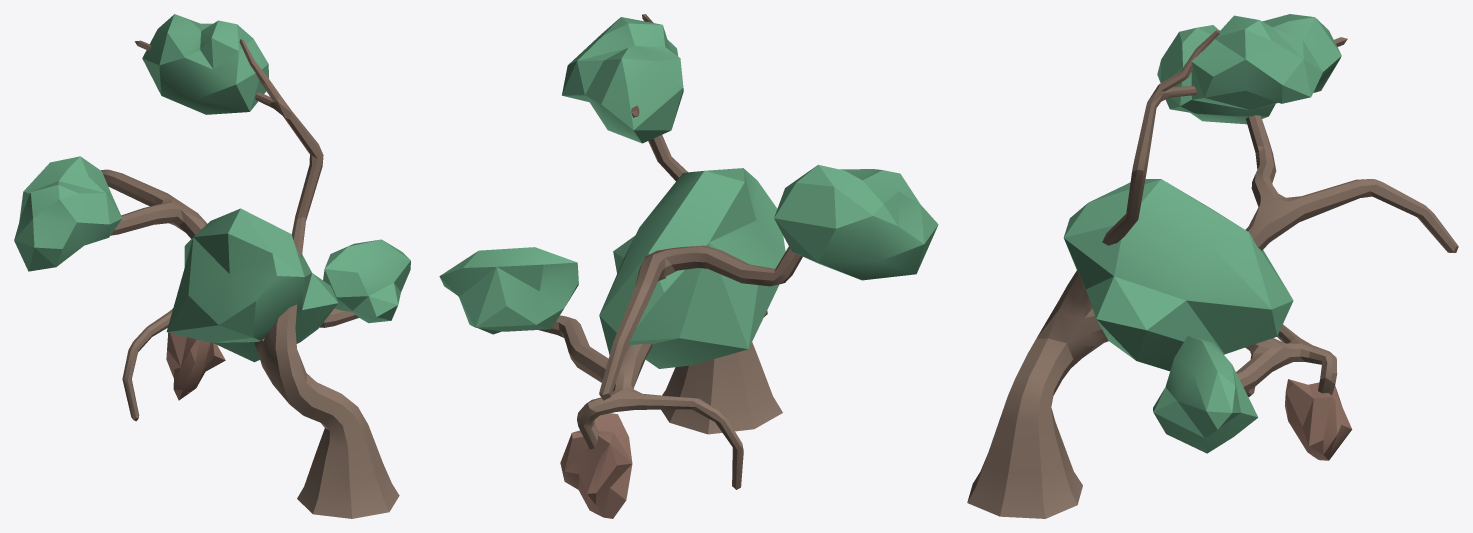
The model's file is tree_13c.glb.
3 views of the same model, side by side, from view 1: azimuth 30°, elevation 25°; view 2: azimuth 150°, elevation 25°; view 3: azimuth 270°, elevation 25° (orthographic). The views are drawn at different scales.
Parts seen in each view (by area): view 1: EA_Tr_Nature_Tree_13c_LOD0; view 2: EA_Tr_Nature_Tree_13c_LOD0; view 3: EA_Tr_Nature_Tree_13c_LOD0.
Part boxes in pixels (x1=…): EA_Tr_Nature_Tree_13c_LOD0: x1=14, y1=14, x2=410, y2=518; EA_Tr_Nature_Tree_13c_LOD0: x1=439, y1=14, x2=938, y2=518; EA_Tr_Nature_Tree_13c_LOD0: x1=967, y1=14, x2=1458, y2=518.
Bounding box in the file's own units: 13.08 × 12.69 × 12.29.
Materials: 1 (1 with a texture image).
